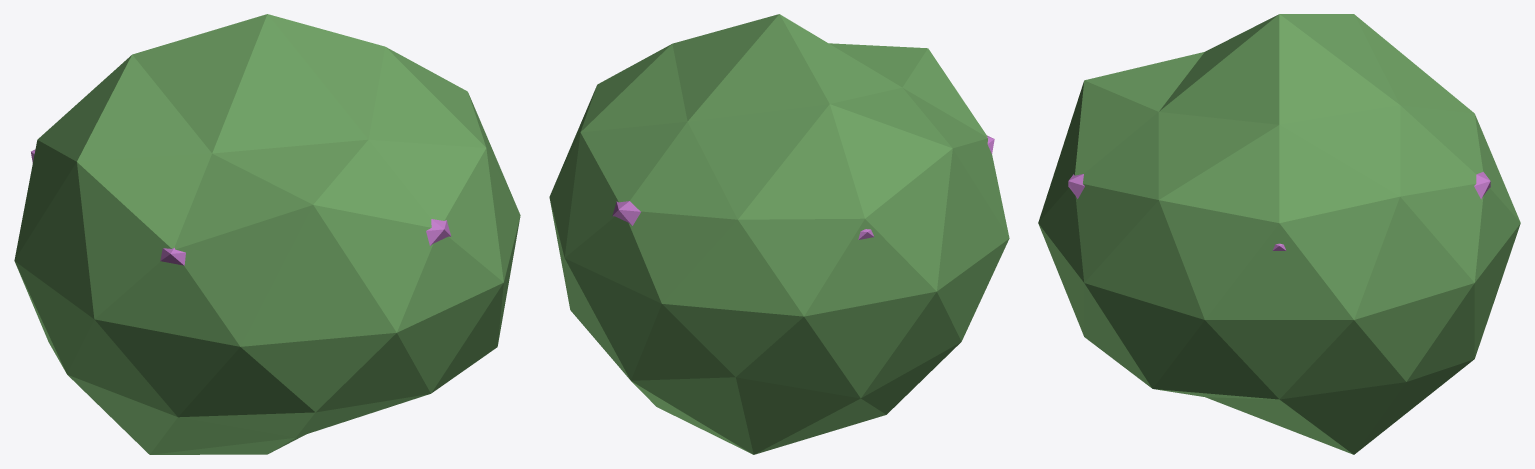
The model's file is rhododendron.glb.
3 renders of one model, left to right at view 1: azimuth 30°, elevation 25°; view 2: azimuth 150°, elevation 25°; view 3: azimuth 270°, elevation 25°, orthographic. The views are drawn at different scales.
Parts seen in each view (by area): view 1: Rhododendron; view 2: Rhododendron; view 3: Rhododendron.
Part boxes in pixels (bbox=[...]): Rhododendron: bbox=[14, 14, 520, 454]; Rhododendron: bbox=[549, 14, 1009, 454]; Rhododendron: bbox=[1038, 14, 1520, 454].
Bounding box in the file's own units: 1.33 × 1.32 × 1.4.
